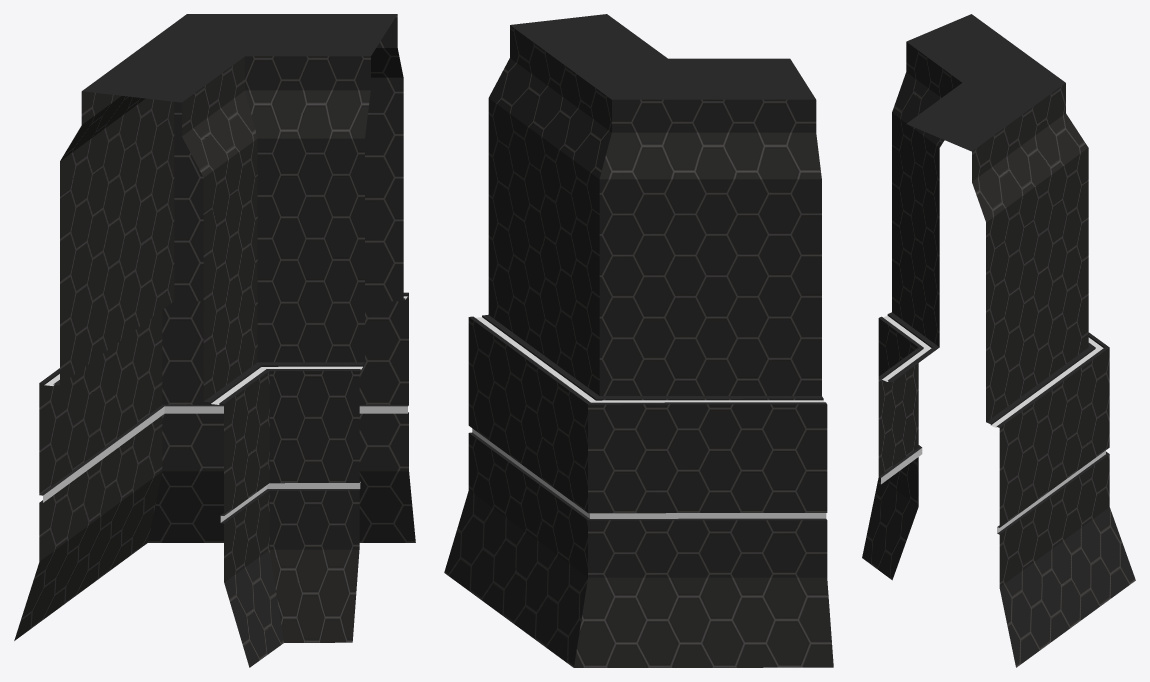
File: WallCorner60.fbx
The picture shows the model from 3 angles, left to right: view 1: azimuth 30°, elevation 25°; view 2: azimuth 150°, elevation 25°; view 3: azimuth 270°, elevation 25°; orthographic projection. The views are drawn at different scales.
Parts seen in each view (by area): view 1: CornerComplete.010; view 2: CornerComplete.010; view 3: CornerComplete.010.
Part boxes in pixels (x1,y1,x2,y2): CornerComplete.010: [14, 14, 415, 667]; CornerComplete.010: [444, 14, 833, 667]; CornerComplete.010: [862, 14, 1135, 667].
Bounding box in the file's own units: 283 × 375 × 187.
